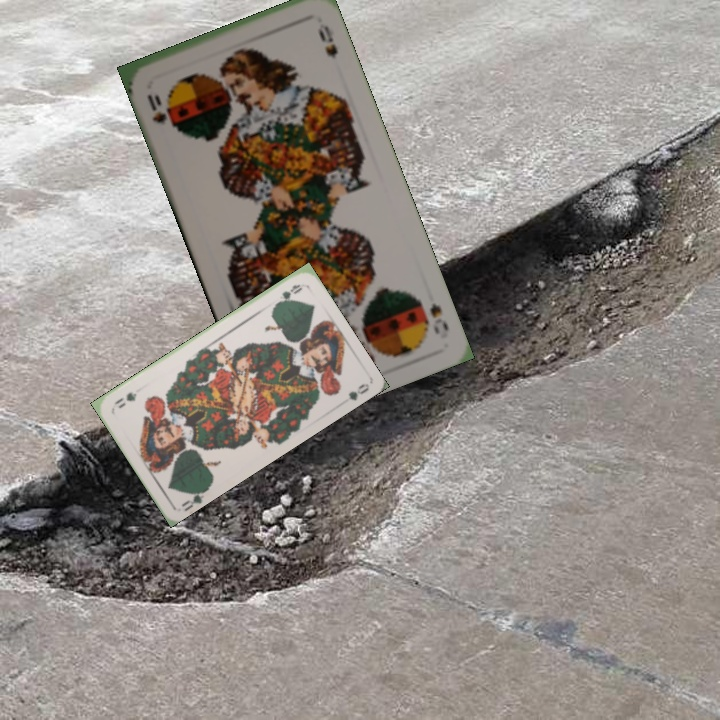GO: (270, 280, 305, 310), (178, 482, 211, 513)
SO: (143, 90, 176, 130), (425, 299, 452, 337)
